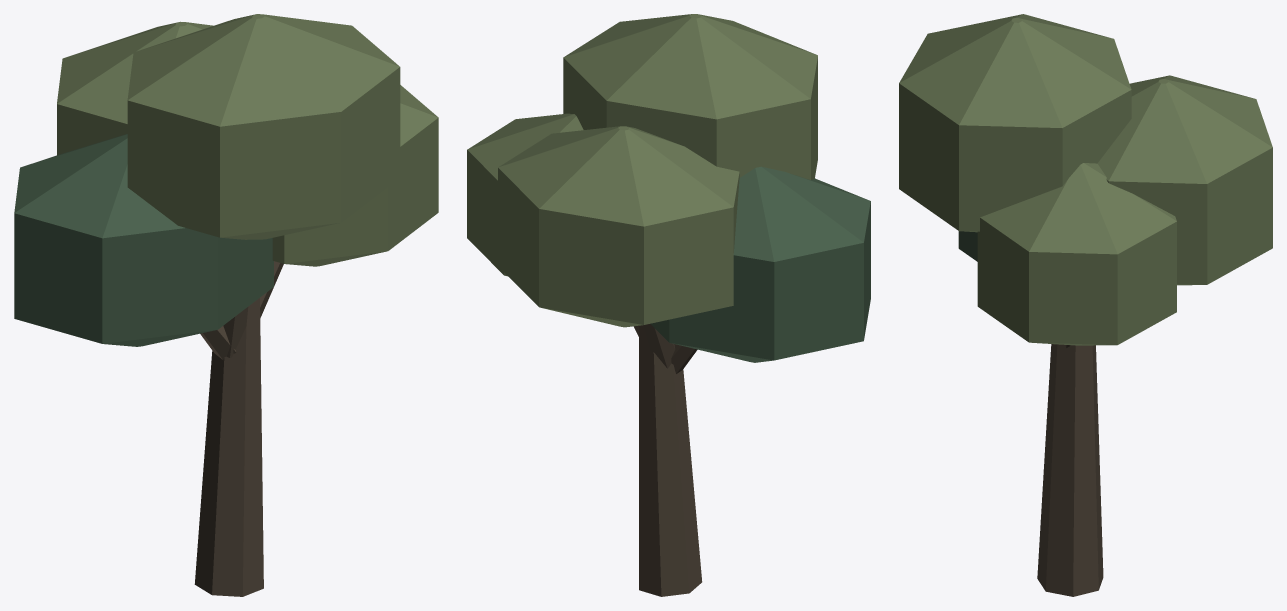
Rendered from NAT_Tree_00_Oak.glb.
3 renders of one model, left to right at view 1: azimuth 30°, elevation 25°; view 2: azimuth 150°, elevation 25°; view 3: azimuth 270°, elevation 25°, orthographic. The views are drawn at different scales.
Visible parts, largest first — view 1: NAT_Tree_00_Oak; view 2: NAT_Tree_00_Oak; view 3: NAT_Tree_00_Oak.
Part boxes in pixels (x1,y1,x2,y2): NAT_Tree_00_Oak: (14,14,438,596); NAT_Tree_00_Oak: (467,14,870,596); NAT_Tree_00_Oak: (899,14,1272,596).
Bounding box in the file's own units: 2.88 × 4.01 × 2.42.
